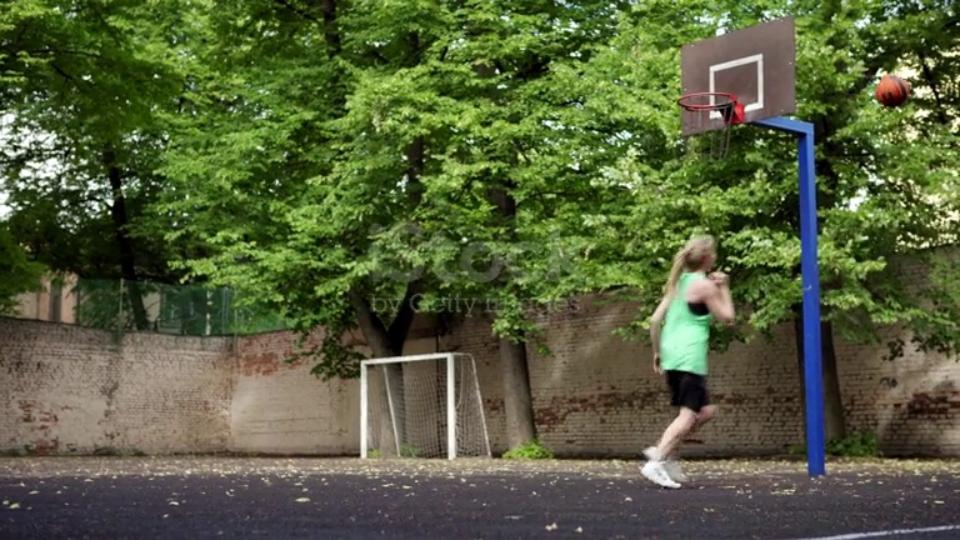hoop: (675, 89, 752, 127)
